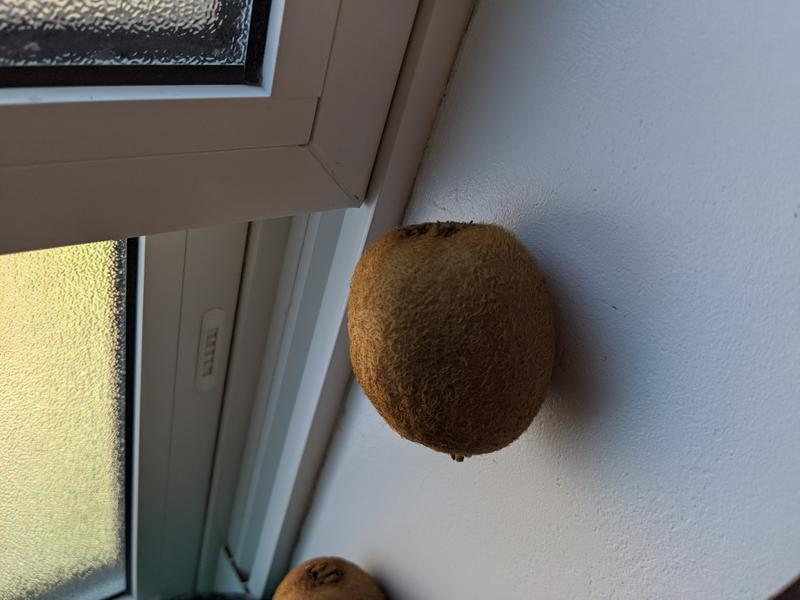kiwi: (346, 221, 560, 462), (265, 555, 391, 600)
